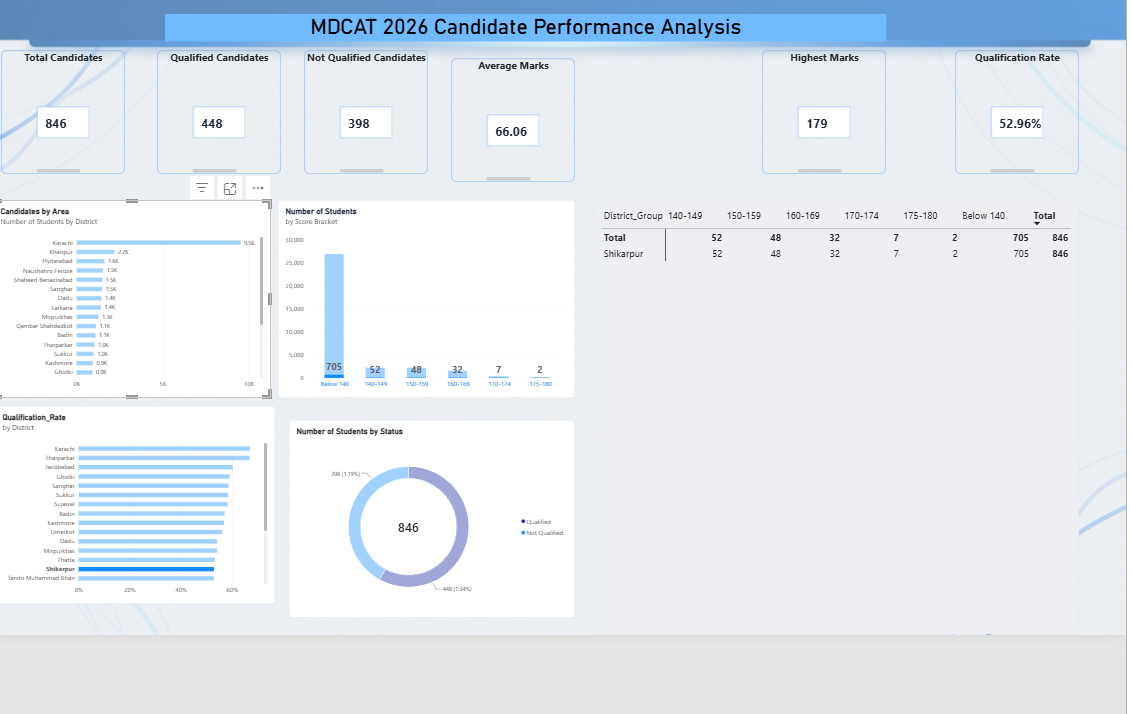

The dashboard page shown, as its layout file describes it:
{"tool":"powerbi","page":{"name":"Page 1","canvas":[2560,1440],"ordinal":0},"visuals":[{"type":"cardVisual","title":"Total Candidates","fields":{"Data":["Count(MDCAT_Result_2026.Seat No)"]},"box":[17.8,119.1,280,280],"z":0},{"type":"textbox","title":"MDCAT 2026 Candidate Performance Analysis","box":[388.6,38.4,1630.2,62.2],"z":1000},{"type":"cardVisual","title":"Qualified Candidates ","fields":{"Data":["MDCAT_Result_2026.Qualified Candidates"]},"box":[369.7,119.1,280,280],"z":2000},{"type":"cardVisual","title":"Highest Marks ","fields":{"Data":["MDCAT_Result_2026.Highest Marks"]},"box":[1738.4,119.9,280,280],"z":3000},{"type":"cardVisual","title":"Not Qualified Candidates","fields":{"Data":["MDCAT_Result_2026.Not Qualified Candidates"]},"box":[701.8,119.1,280,280],"z":4000},{"type":"cardVisual","title":"Qualification Rate","fields":{"Data":["MDCAT_Result_2026.Qualification_Rate"]},"box":[2174.1,119.9,280,280],"z":6000},{"type":"clusteredColumnChart","fields":{"Category":["MDCAT_Result_2026.Score Bracket"],"Y":["CountNonNull(MDCAT_Result_2026.Seat No)"]},"box":[644,458.7,671,447],"z":10000},{"type":"clusteredBarChart","title":"Candidates by Area","fields":{"Category":["MDCAT_Result_2026.District_Group"],"Y":["CountNonNull(MDCAT_Result_2026.Seat No)"]},"box":[4.5,458.7,628.1,447.4],"z":10003},{"type":"clusteredBarChart","fields":{"Category":["MDCAT_Result_2026.District_Group"],"Y":["MDCAT_Result_2026.Qualification_Rate"]},"box":[4.5,924.1,632.7,447.4],"z":10004},{"type":"donutChart","title":"Number of Students by Status","fields":{"Category":["MDCAT_Result_2026.Qualification_Status"],"Y":["Count(MDCAT_Result_2026.Seat No)"]},"box":[668.8,955.8,646.2,447.4],"z":10005},{"type":"pivotTable","fields":{"Columns":["MDCAT_Result_2026.Score Bracket"],"Rows":["MDCAT_Result_2026.District_Group"],"Values":["Count(MDCAT_Result_2026.Seat No)"]},"box":[1358,458.7,1095.9,980.6],"z":10006},{"type":"cardVisual","title":"Average Marks","fields":{"Data":["Avg(MDCAT_Result_2026.Obtained Marks)"]},"box":[1034.8,137.8,280,280],"z":10007}]}

Visuals, with their boxes on the page's 2560x1440 design canvas (x1, y1, x2, y2). These are canvas units, not pixel positions in the 1132x714 screenshot, which may show the page scaled, cropped or inside an application window:
"Total Candidates" cardVisual: bbox=(18, 119, 298, 399)
"MDCAT 2026 Candidate Performance Analysis" textbox: bbox=(389, 38, 2019, 101)
"Qualified Candidates " cardVisual: bbox=(370, 119, 650, 399)
"Highest Marks " cardVisual: bbox=(1738, 120, 2018, 400)
"Not Qualified Candidates" cardVisual: bbox=(702, 119, 982, 399)
"Qualification Rate" cardVisual: bbox=(2174, 120, 2454, 400)
clusteredColumnChart - MDCAT_Result_2026.Score Bracket x CountNonNull(MDCAT_Result_2026.Seat No): bbox=(644, 459, 1315, 906)
"Candidates by Area" clusteredBarChart: bbox=(4, 459, 633, 906)
clusteredBarChart - MDCAT_Result_2026.District_Group x MDCAT_Result_2026.Qualification_Rate: bbox=(4, 924, 637, 1372)
"Number of Students by Status" donutChart: bbox=(669, 956, 1315, 1403)
pivotTable - MDCAT_Result_2026.Score Bracket x MDCAT_Result_2026.District_Group: bbox=(1358, 459, 2454, 1439)
"Average Marks" cardVisual: bbox=(1035, 138, 1315, 418)
